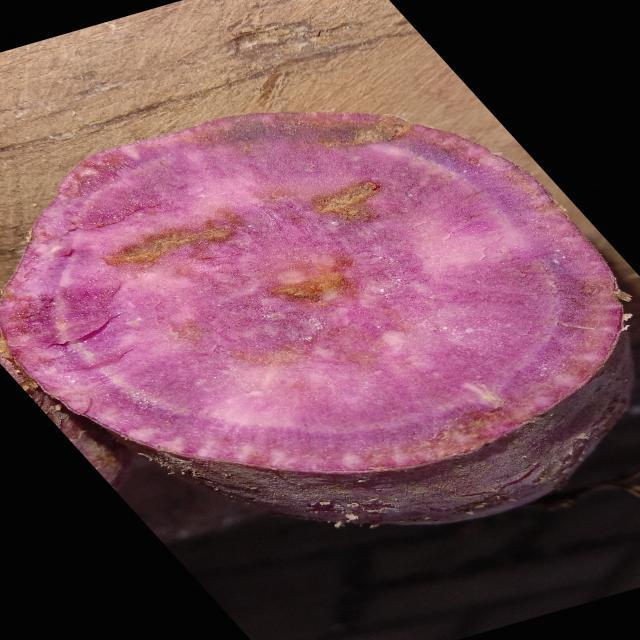Sick Sweet Potato_Tuber Rot: (2, 114, 622, 471)
